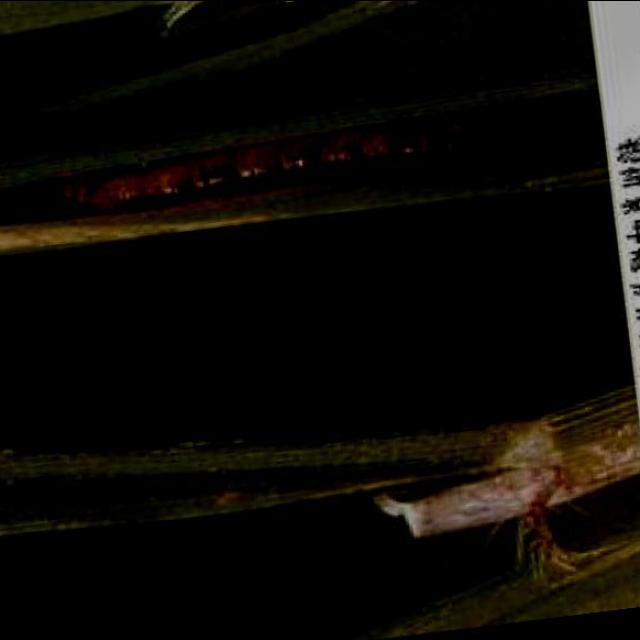leaf folder: (62, 126, 431, 209)
